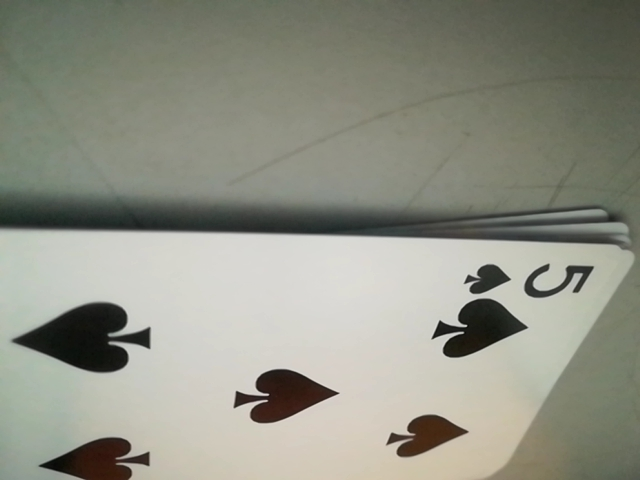ht 5: (458, 254, 602, 300)
